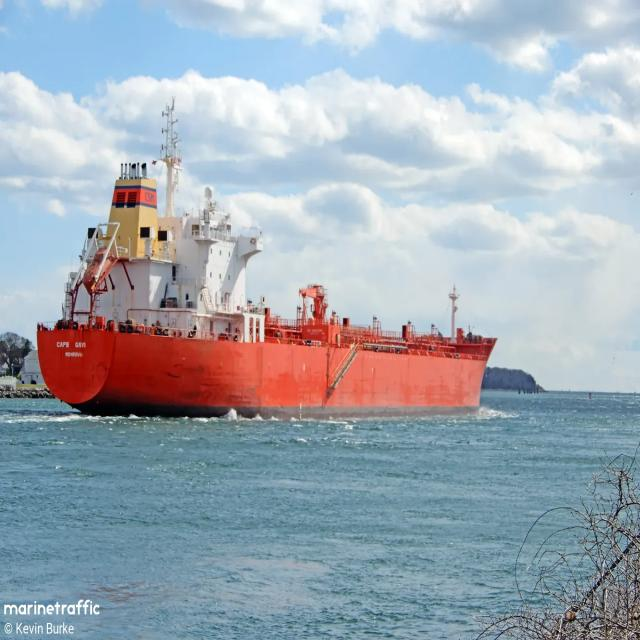Tanker: (37, 100, 496, 417)
